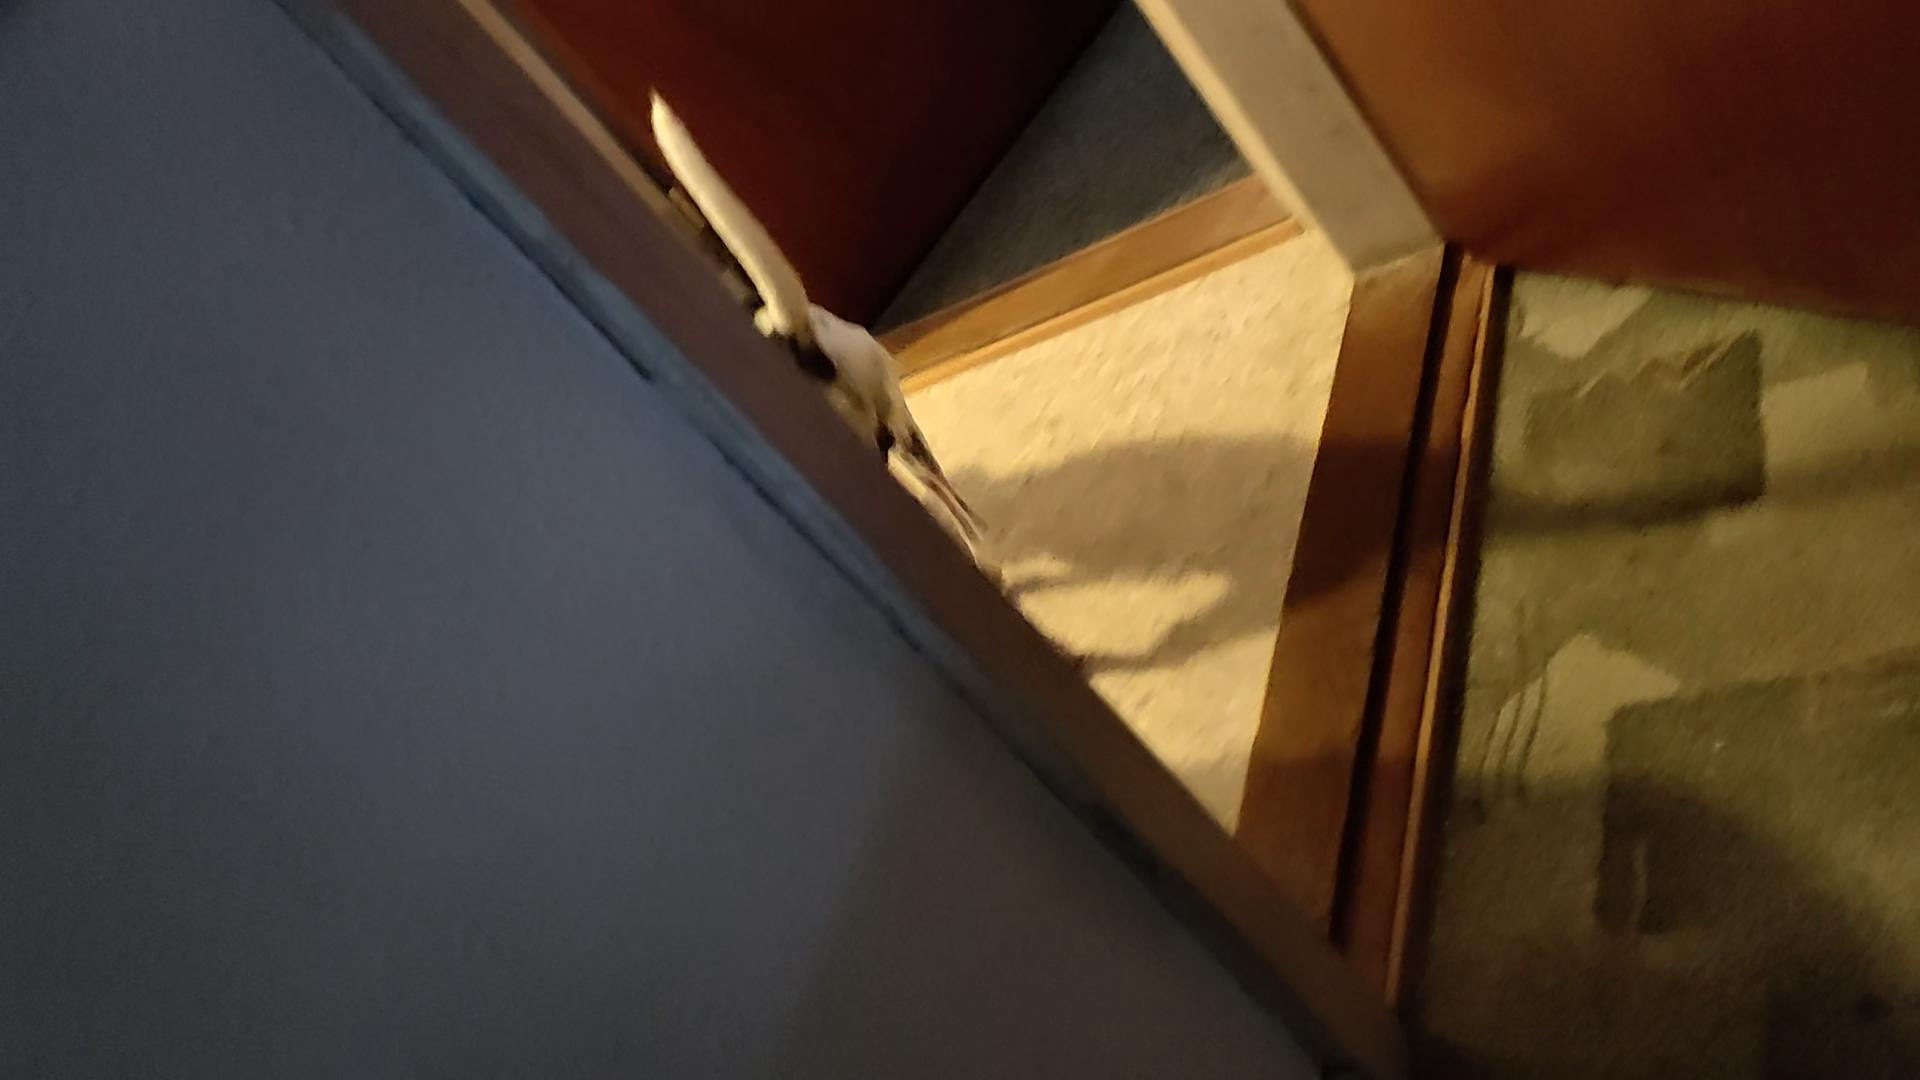Dog: (605, 73, 1033, 626)
